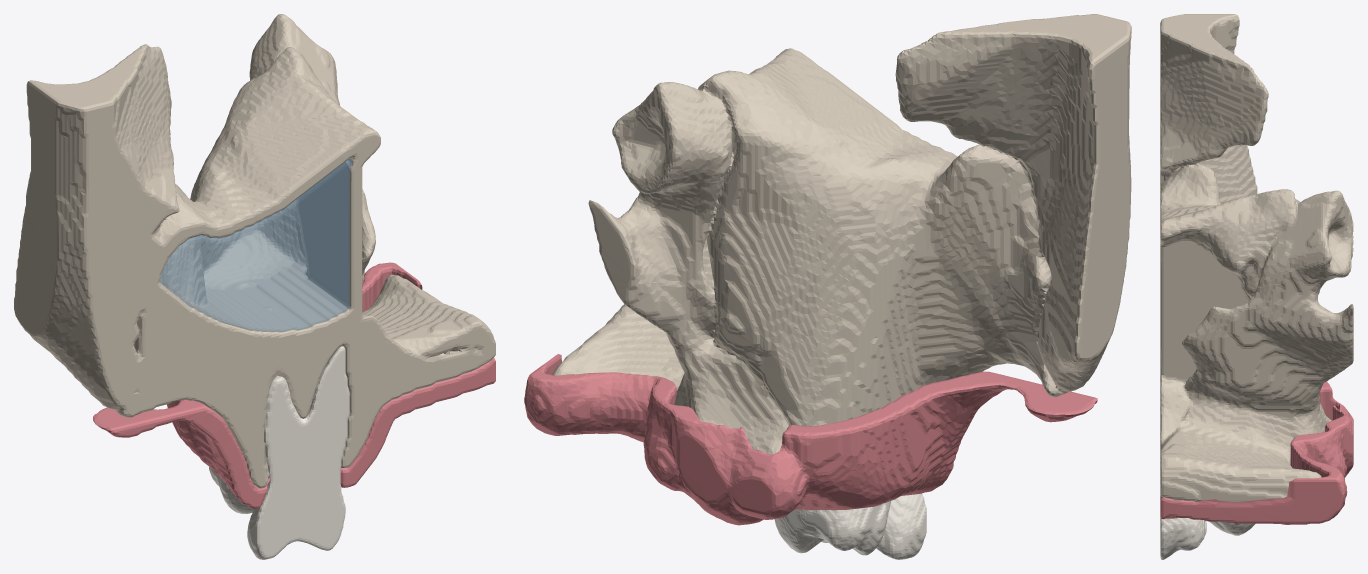
The model's file is normal.glb.
The picture shows the model from 3 angles, left to right: view 1: azimuth 30°, elevation 25°; view 2: azimuth 150°, elevation 25°; view 3: azimuth 270°, elevation 25°; orthographic projection. The views are drawn at different scales.
Parts seen in each view (by area): view 1: bone, sinus, teeth, gum; view 2: bone, gum, teeth; view 3: bone, gum, teeth.
Part boxes in pixels (left/top/right/bottom): bone: left=14, top=14, right=495, bottom=488; sinus: left=160, top=158, right=351, bottom=331; teeth: left=209, top=346, right=349, bottom=559; gum: left=93, top=262, right=495, bottom=508; bone: left=552, top=14, right=1131, bottom=454; gum: left=524, top=354, right=1097, bottom=525; teeth: left=774, top=493, right=926, bottom=559; bone: left=1160, top=14, right=1353, bottom=502; gum: left=1160, top=382, right=1353, bottom=524; teeth: left=1160, top=516, right=1255, bottom=559.
Size of the model in its own units: 0.051 by 0.0575 by 0.023.
